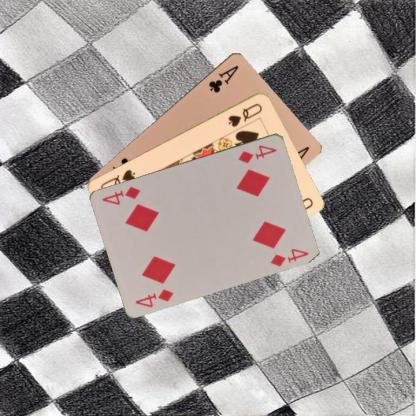4d: (236, 142, 278, 165), (133, 286, 175, 309)
Ac: (206, 62, 240, 94)
Qs: (225, 100, 264, 128)
